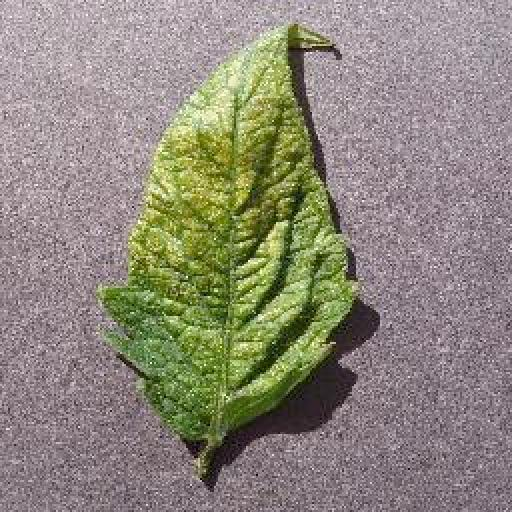disease_tomato: (102, 19, 356, 445)
